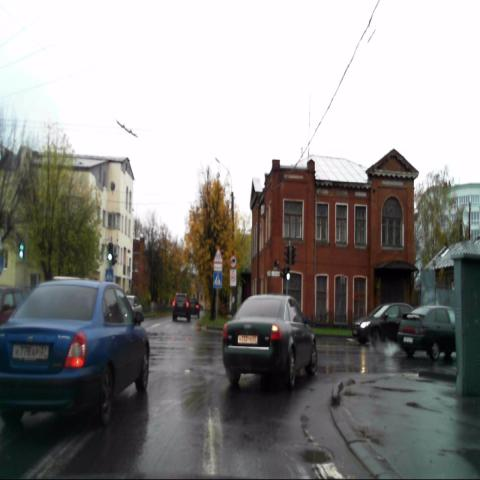1_23: (213, 246, 223, 262)
3_4_1: (230, 255, 236, 268)
5_19_1: (213, 271, 222, 288), (105, 268, 113, 282)
